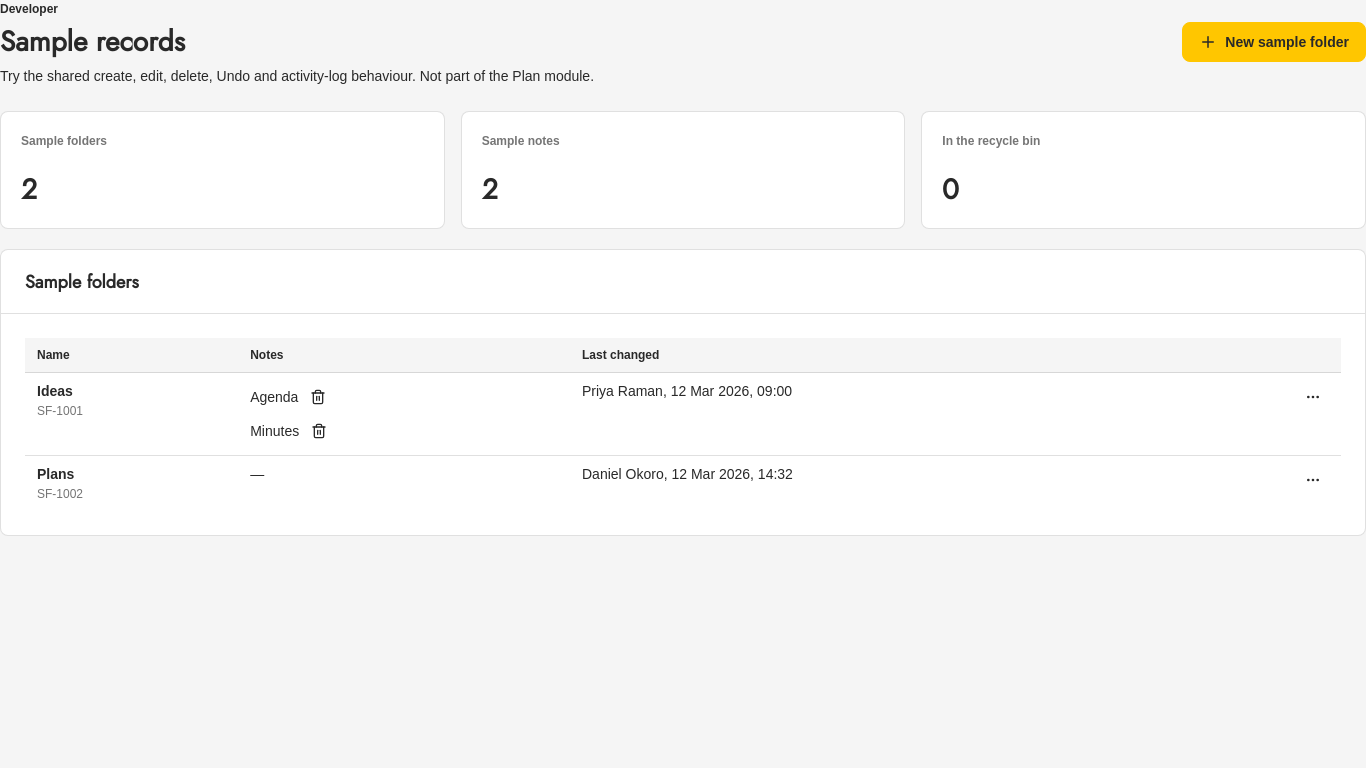
Scenario: SampleRecordsPage: notes › adds a note to a folder from the actions menu and says so (US5)
Expected: the element "Sample folders" is shown, [0,249,1365,536]
Click the button named "Actions for Ideas".
click(1313, 397)  # box [1297,381,1329,413]
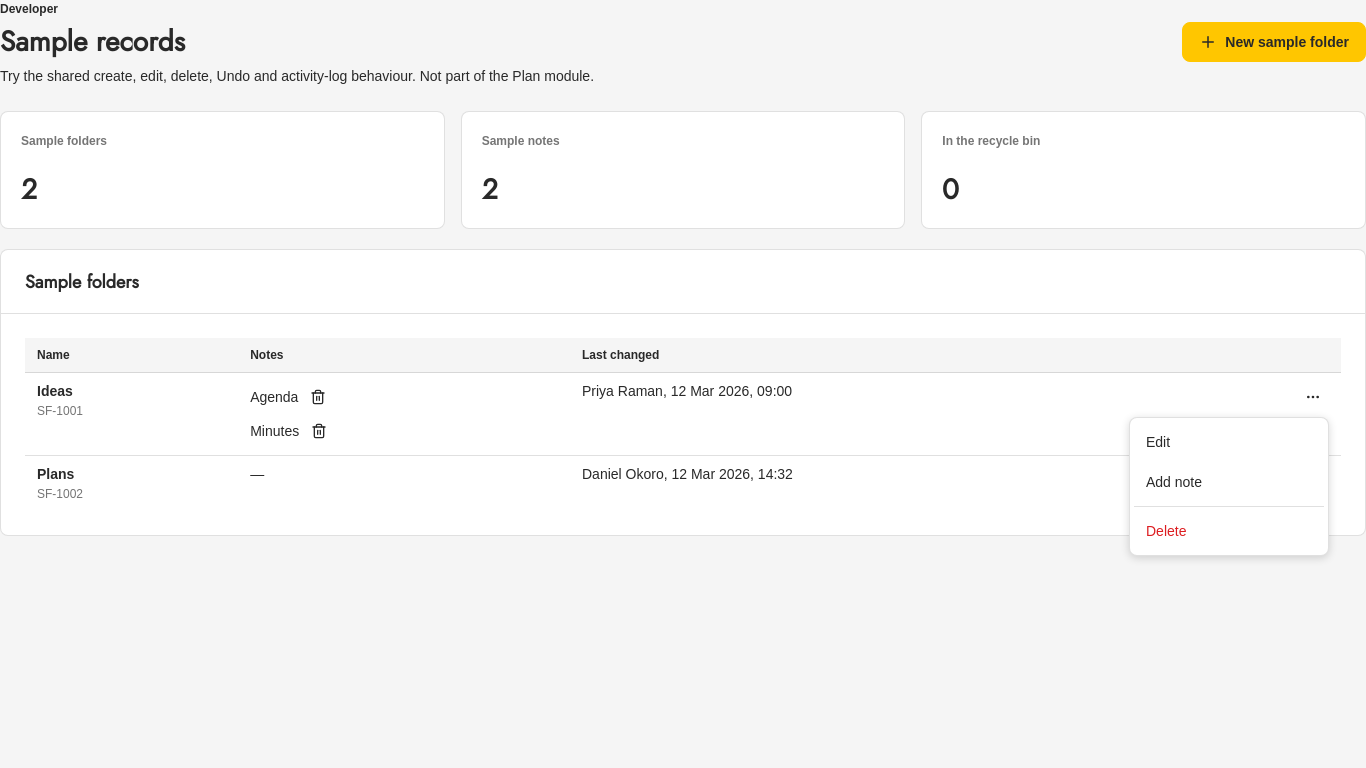
Click the menu item "Add note".
click(1174, 482)  # box [1146,474,1202,490]
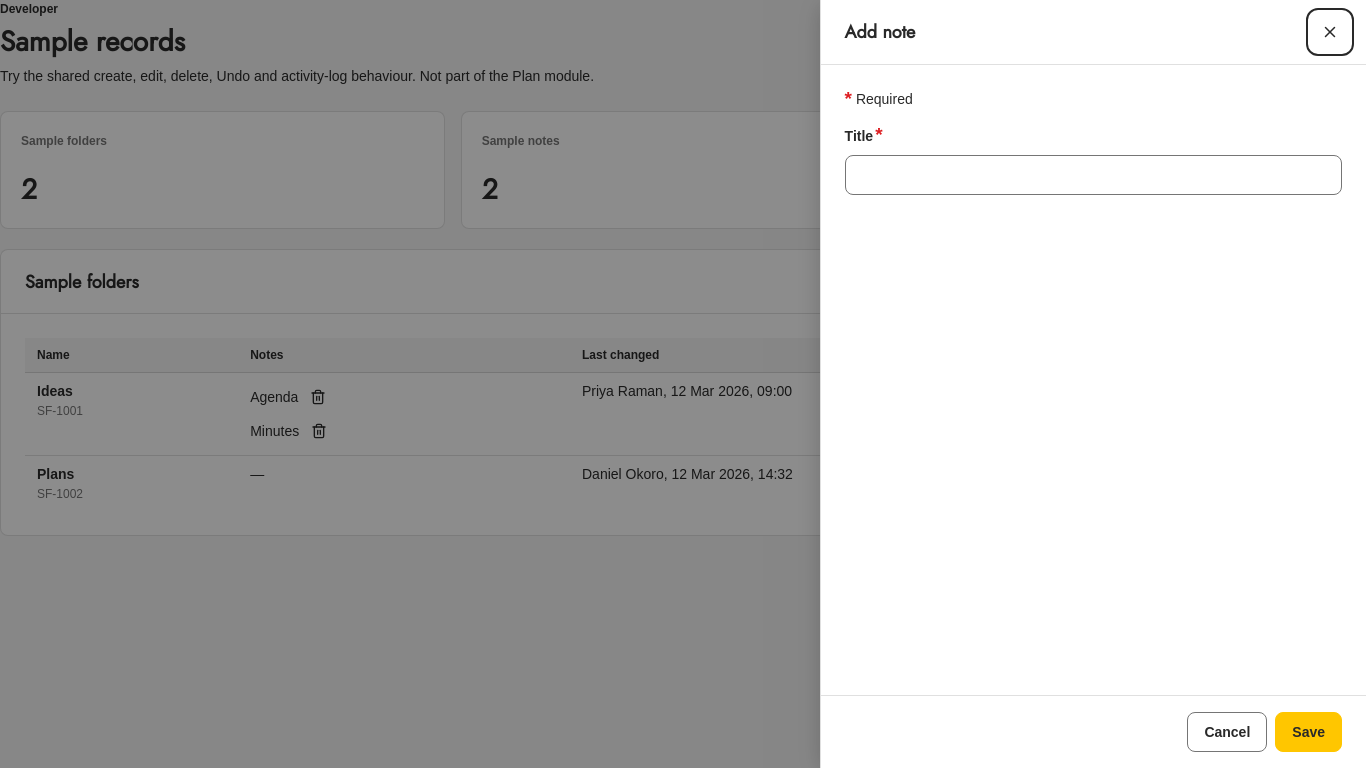
Type "Budget" into the field labelled "Title".
click(1093, 175); type("Budget")  # box [845,155,1342,195]
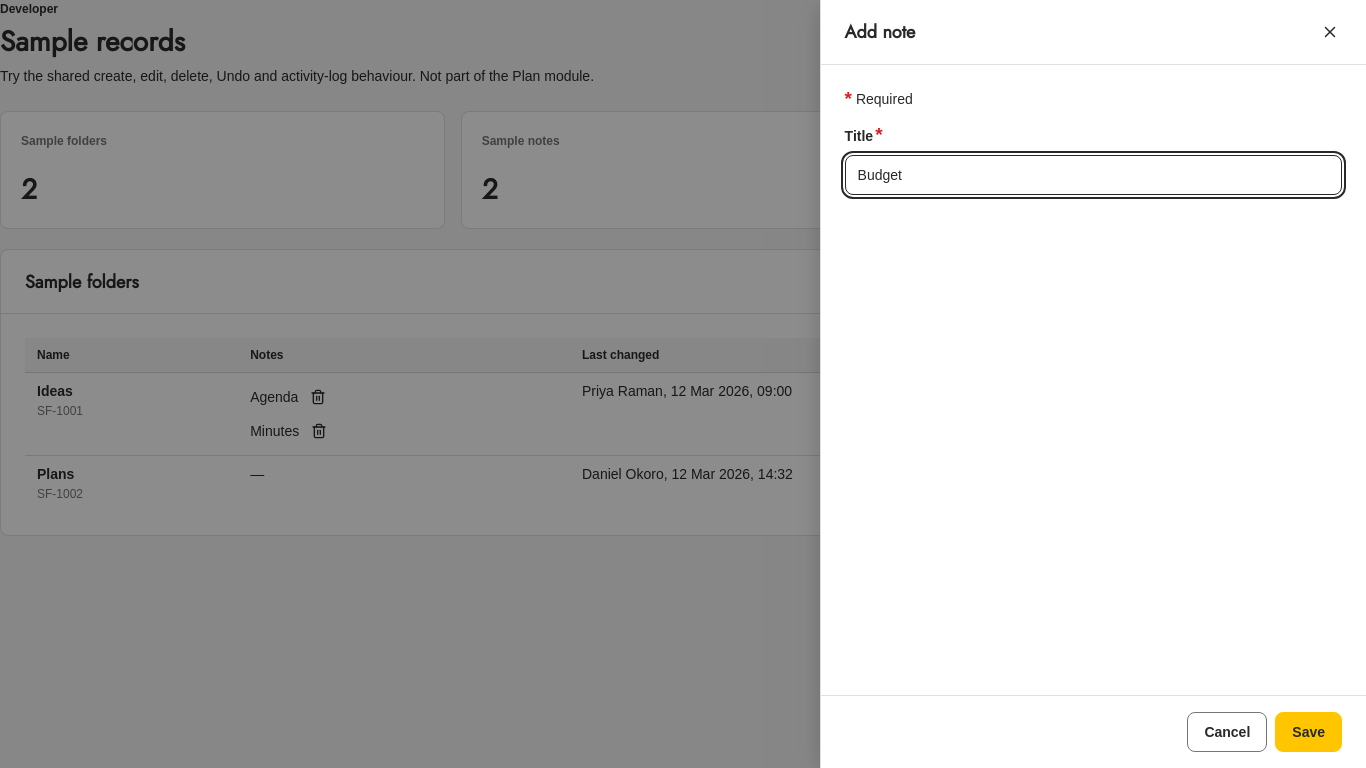
Click the button "Save".
click(1309, 732)  # box [1275,712,1342,752]
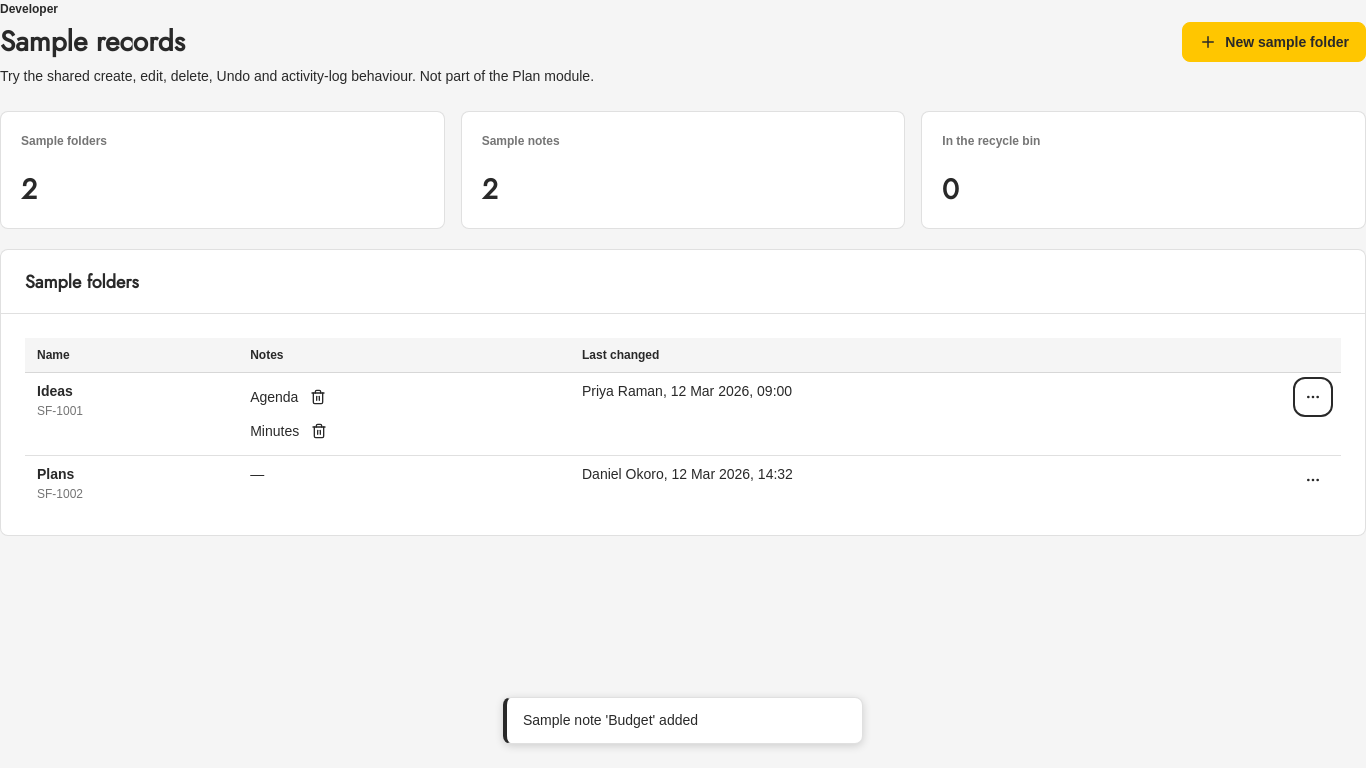
Expected: the dialog is gone
